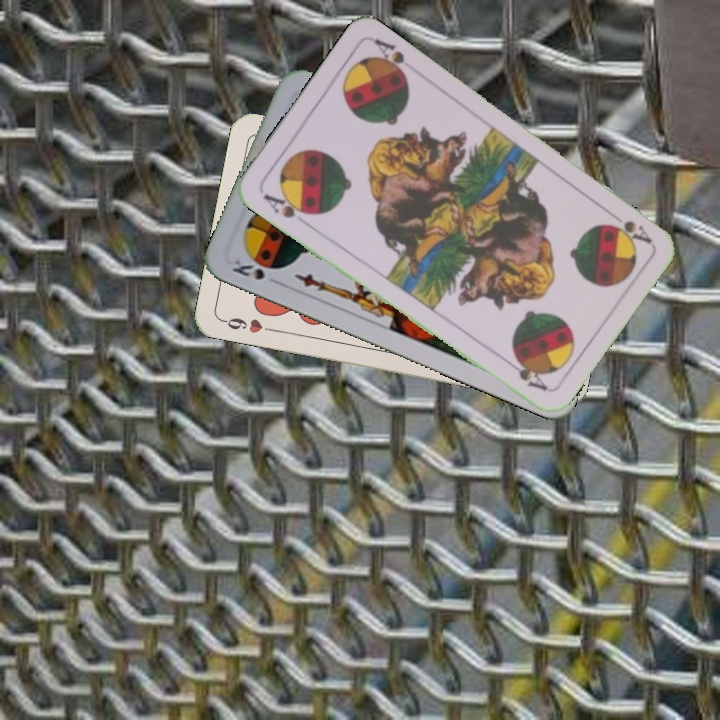H9: (218, 313, 277, 336)
SA: (603, 206, 655, 247), (259, 188, 315, 221)
SK: (228, 255, 281, 283)
